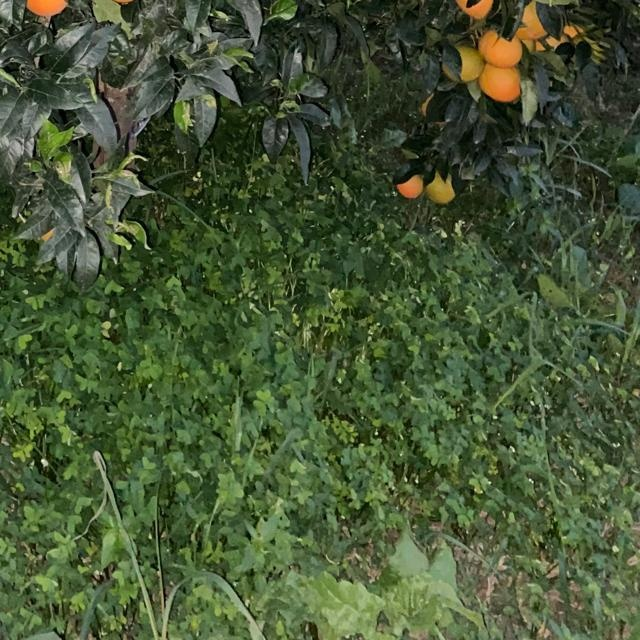orange: (439, 38, 483, 84), (478, 63, 524, 105), (477, 25, 525, 65), (516, 1, 552, 49), (544, 20, 578, 58), (423, 172, 457, 204), (454, 0, 502, 18), (397, 172, 423, 200), (24, 0, 72, 14), (94, 0, 152, 4)
